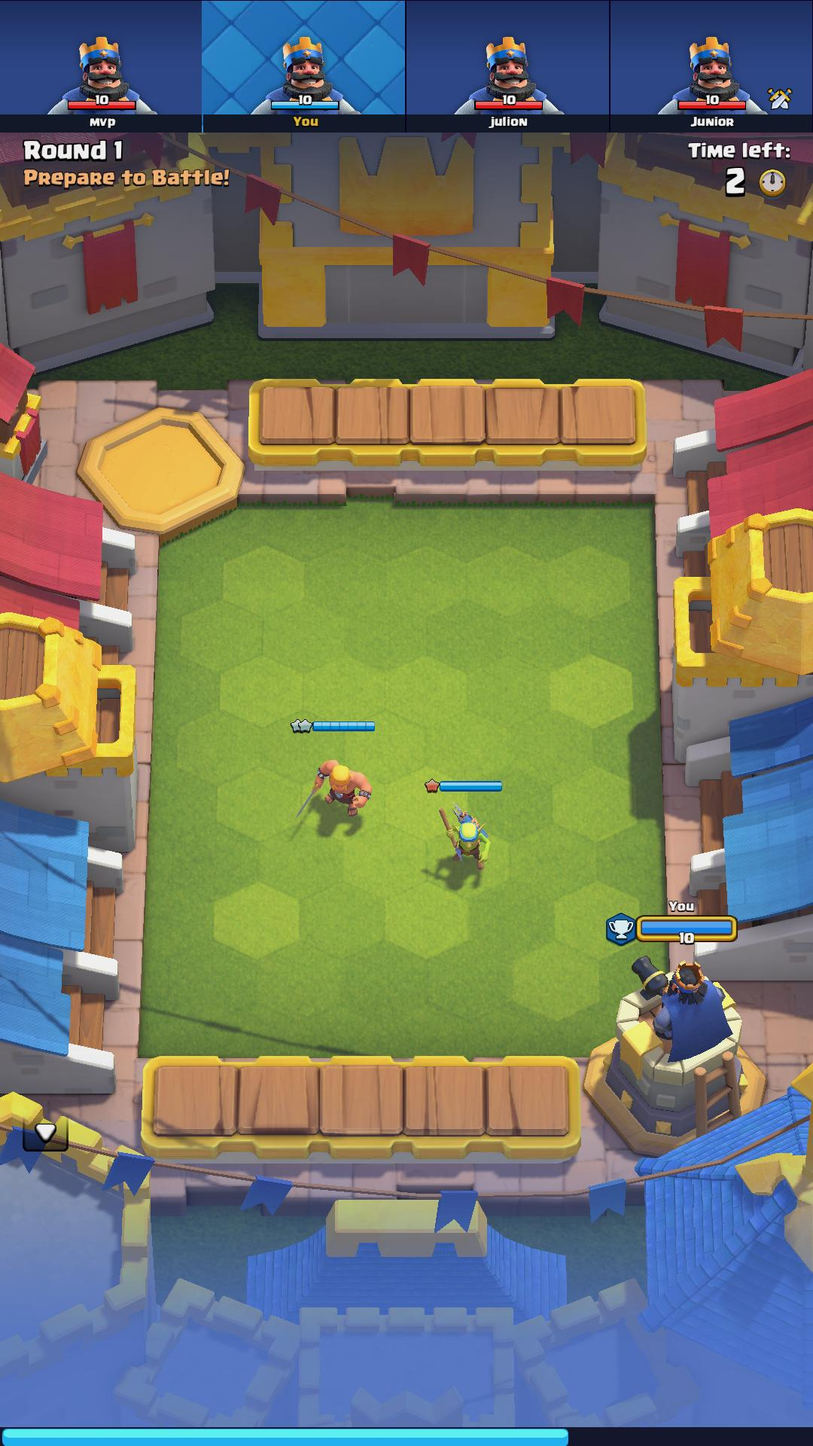barbarian: (308, 750, 372, 823)
spear: (437, 805, 495, 875)
